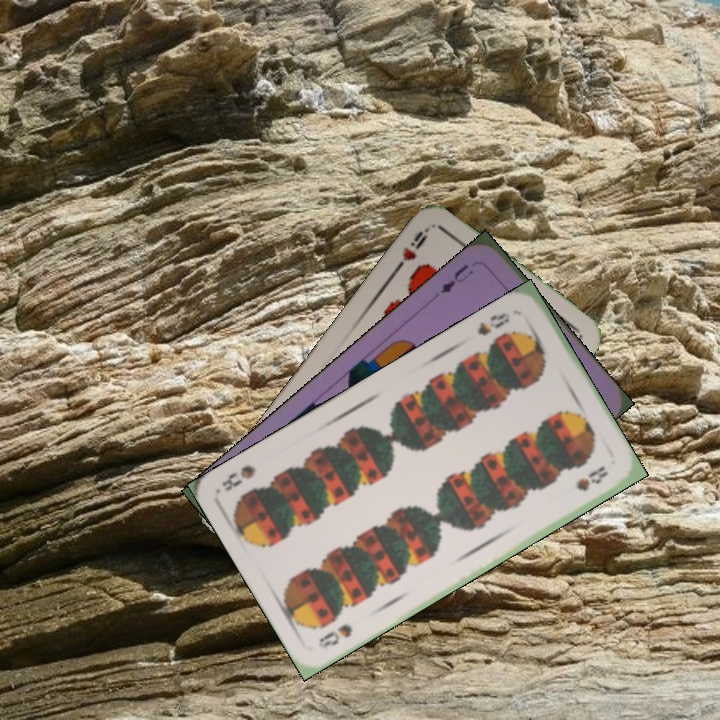EU: (436, 259, 477, 297)
H9: (390, 224, 432, 275)
S8: (314, 620, 355, 651), (473, 308, 513, 338)
